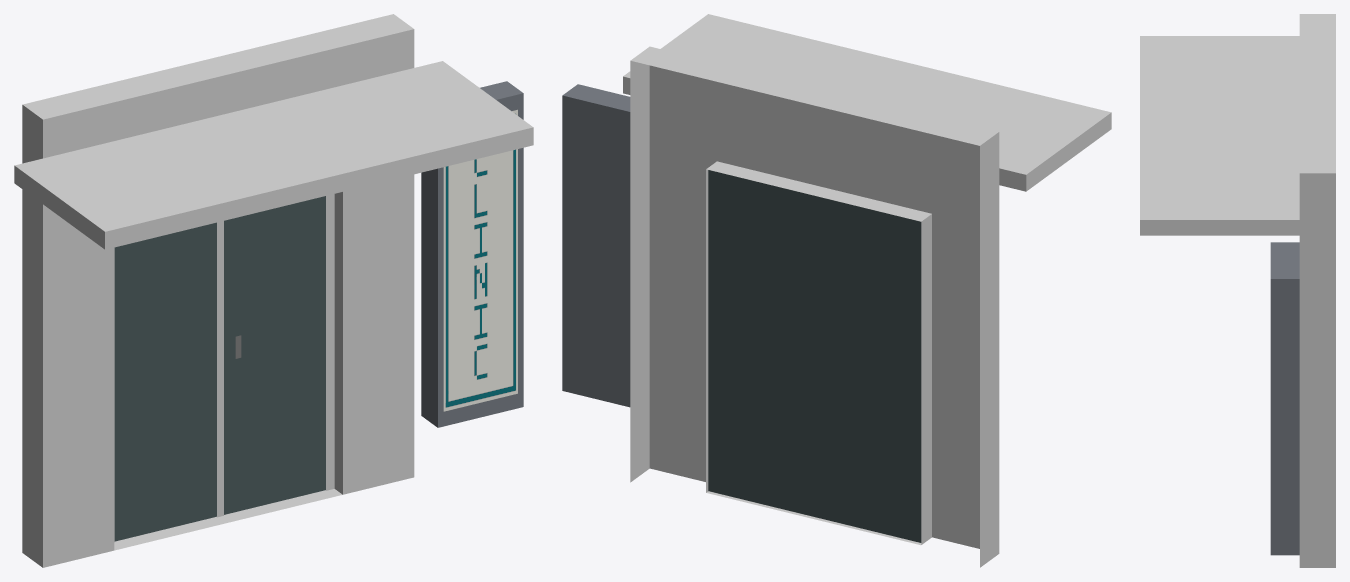
The model's file is entrance.fbx.
3 renders of one model, left to right at view 1: azimuth 30°, elevation 25°; view 2: azimuth 150°, elevation 25°; view 3: azimuth 270°, elevation 25°, orthographic. The views are drawn at different scales.
Parts seen in each view (by area): view 1: a2009/600/entrance; view 2: a2009/600/entrance; view 3: a2009/600/entrance.
Part boxes in pixels (x1,y1,x2,y2): a2009/600/entrance: (14, 14, 533, 567); a2009/600/entrance: (562, 14, 1111, 567); a2009/600/entrance: (1140, 14, 1335, 567).
Bounding box in the file's own units: 3.45 × 3 × 1.35.
